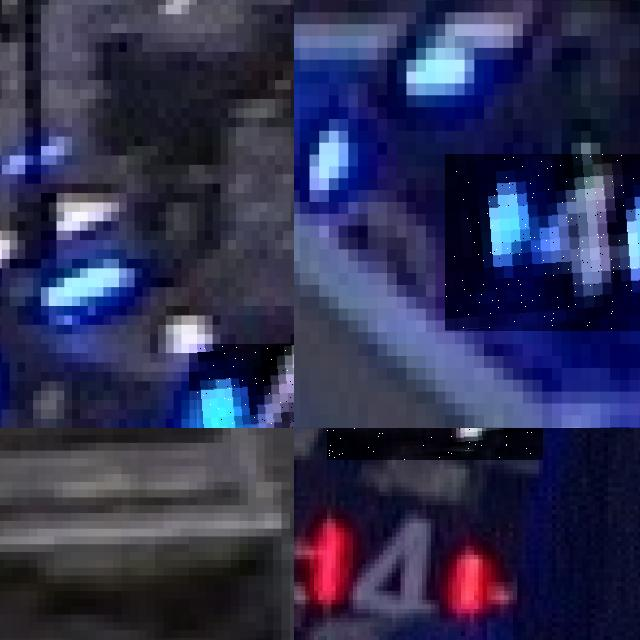B4: (445, 154, 640, 332), (189, 343, 294, 428)
R4: (305, 510, 487, 627), (327, 428, 543, 460)
